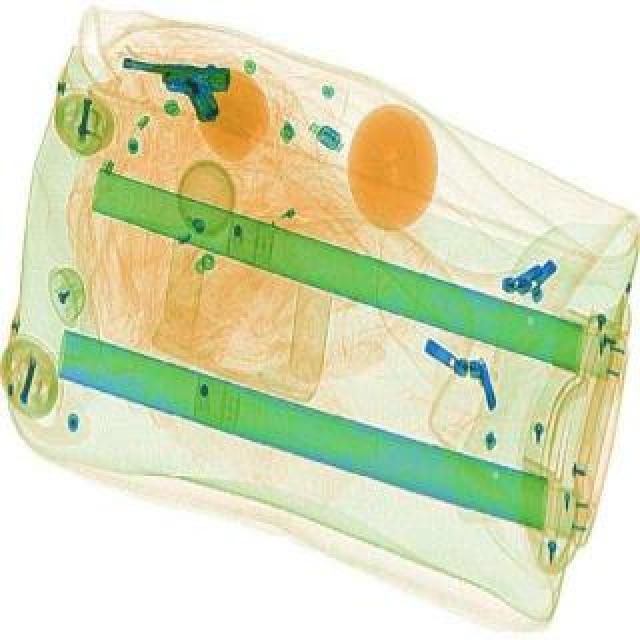gun: (116, 60, 228, 128)
